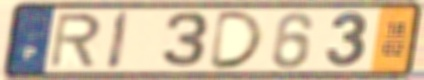3: (161, 10, 214, 70), (324, 10, 370, 70)
6: (270, 9, 316, 70)
D: (206, 9, 267, 71)
I: (104, 9, 133, 72)
R: (47, 11, 104, 70)
